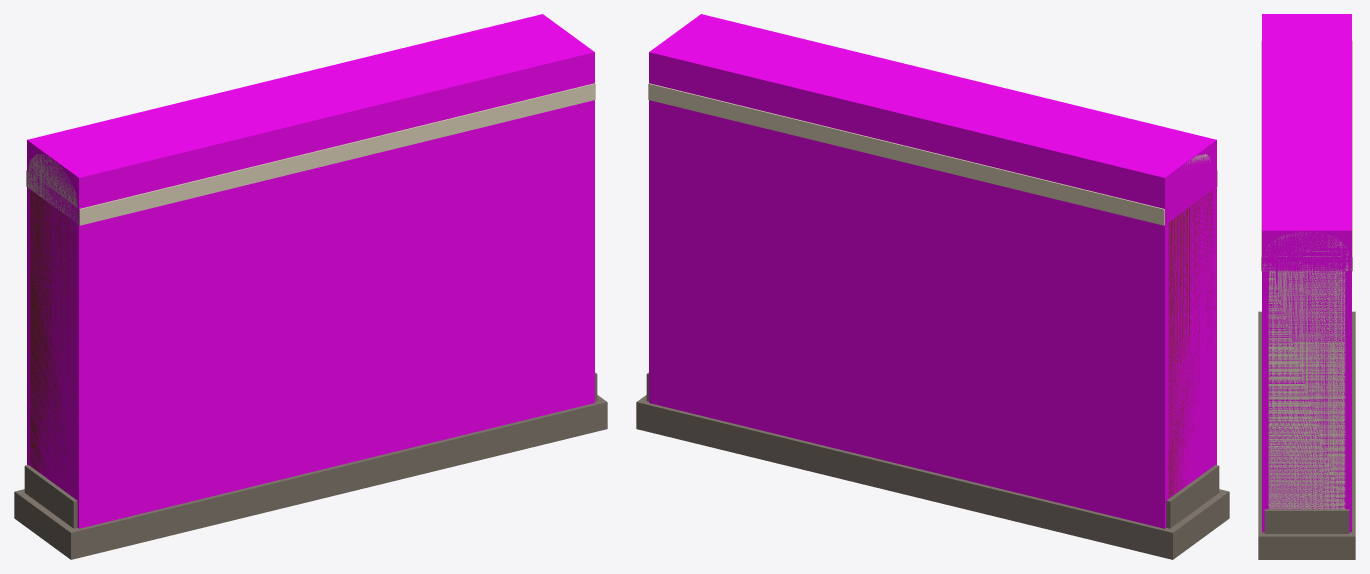
File: ENV_Wall_Prakara_A.glb
The picture shows the model from 3 angles, left to right: view 1: azimuth 30°, elevation 25°; view 2: azimuth 150°, elevation 25°; view 3: azimuth 270°, elevation 25°; orthographic projection. The views are drawn at different scales.
Parts seen in each view (by area): view 1: COL_Wall, ENV_Wall_Prakara_A_Mesh; view 2: COL_Wall, ENV_Wall_Prakara_A_Mesh; view 3: COL_Wall, ENV_Wall_Prakara_A_Mesh.
Part boxes in pixels (box(x1,y1,x2,y2)): COL_Wall: box(27, 14, 594, 528); ENV_Wall_Prakara_A_Mesh: box(14, 83, 607, 559); COL_Wall: box(649, 14, 1216, 528); ENV_Wall_Prakara_A_Mesh: box(636, 83, 1229, 559); COL_Wall: box(1262, 14, 1351, 532); ENV_Wall_Prakara_A_Mesh: box(1258, 40, 1355, 559).
Size of the model in its own units: 4.16 by 2.8 by 0.76.
